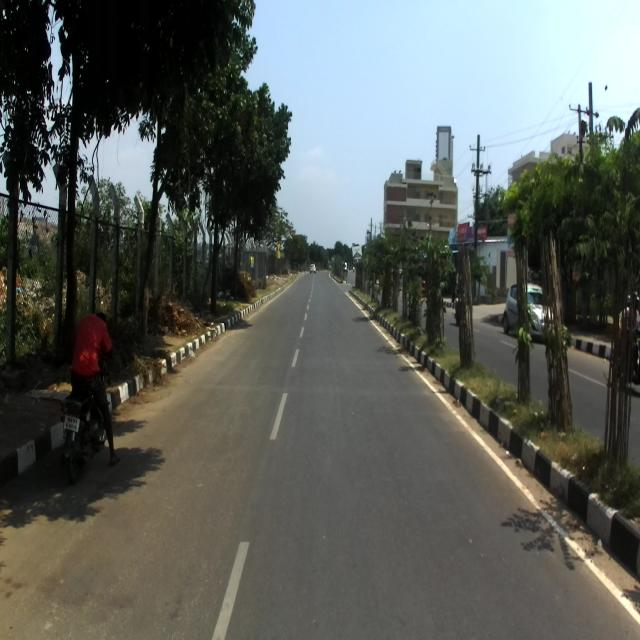motorcycle ahead at: (62, 305, 126, 479)
tree ahead at: (138, 174, 166, 350)
